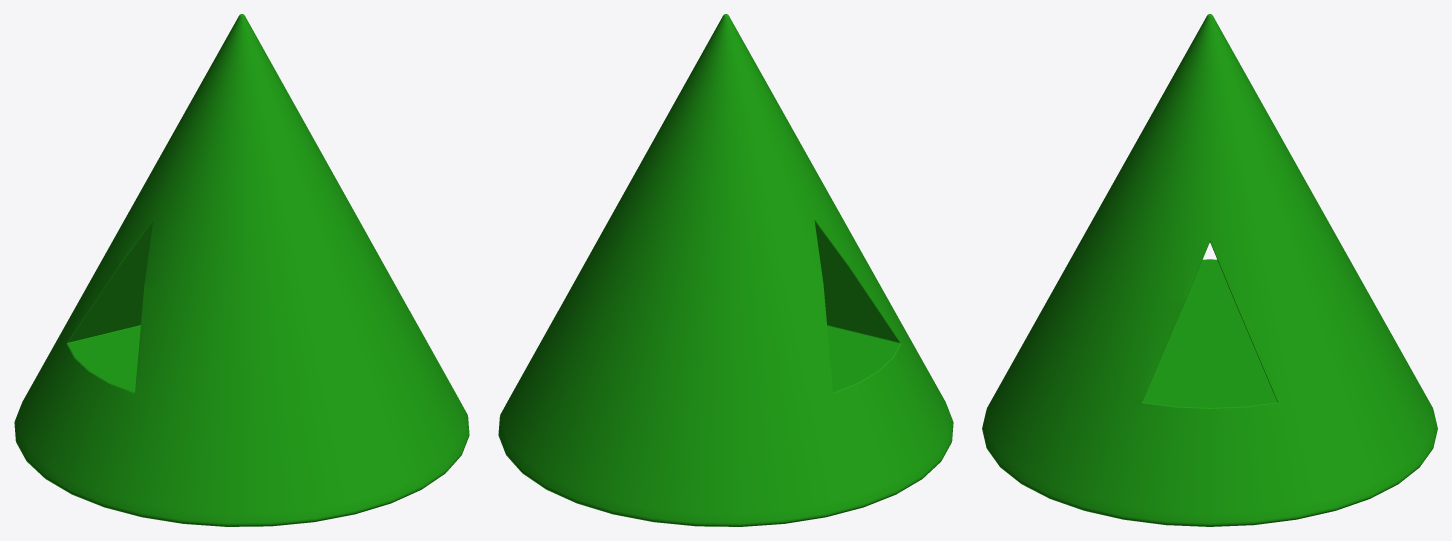
The model's file is var_21.glb.
The picture shows the model from 3 angles, left to right: view 1: azimuth 30°, elevation 25°; view 2: azimuth 150°, elevation 25°; view 3: azimuth 270°, elevation 25°; orthographic projection.
Parts seen in each view (by area): view 1: 301; view 2: 301; view 3: 301.
Part boxes in pixels (x1,y1,x2,y2): 301: [14, 14, 469, 526]; 301: [498, 14, 953, 526]; 301: [982, 14, 1437, 526].
Size of the model in its own units: 1.98 by 2 by 1.98.
